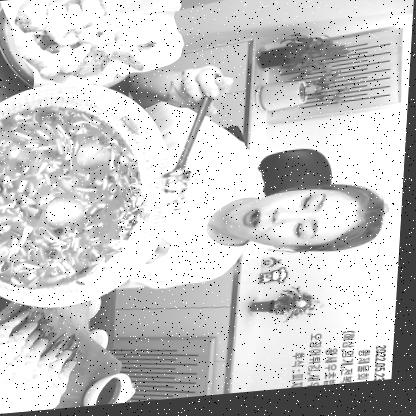streamer: (118, 53, 400, 296)
